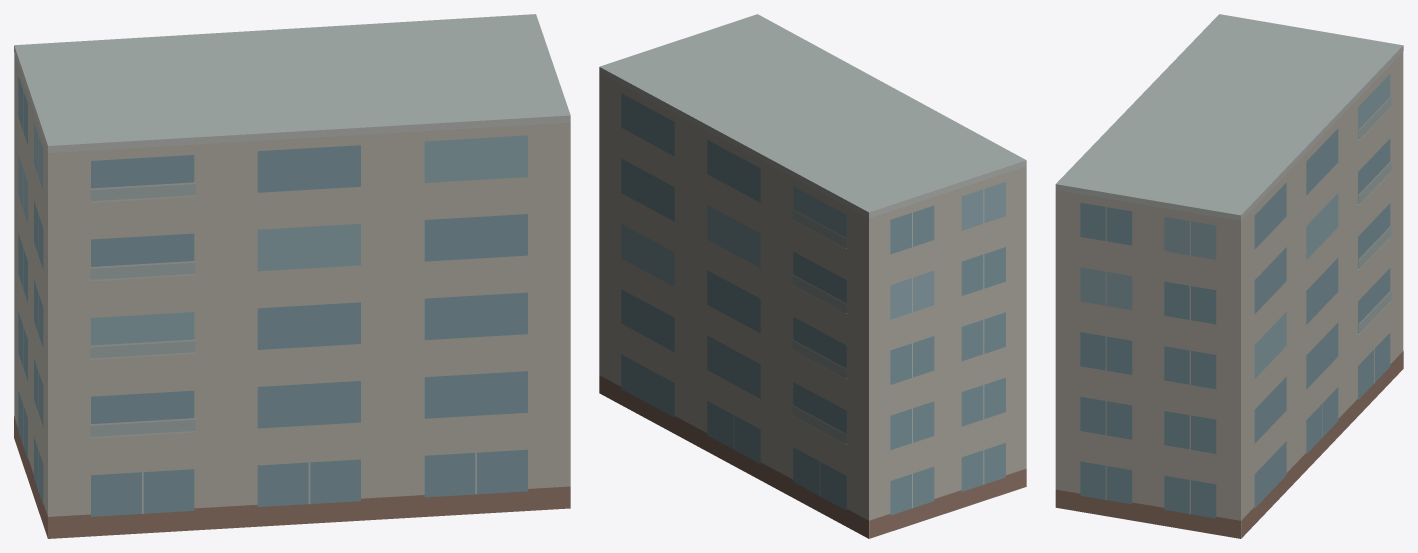
File: survey-upis-32531232.glb
The picture shows the model from 3 angles, left to right: view 1: azimuth 30°, elevation 25°; view 2: azimuth 150°, elevation 25°; view 3: azimuth 270°, elevation 25°; orthographic projection. The views are drawn at different scales.
Parts seen in each view (by area): view 1: survey-upis-32531232.tmp; view 2: survey-upis-32531232.tmp; view 3: survey-upis-32531232.tmp.
Part boxes in pixels (left/top/right/bottom): survey-upis-32531232.tmp: left=14, top=14, right=570, bottom=538; survey-upis-32531232.tmp: left=599, top=14, right=1026, bottom=538; survey-upis-32531232.tmp: left=1055, top=14, right=1403, bottom=538.
Size of the model in its own units: 17.83 by 13.35 by 13.02.
